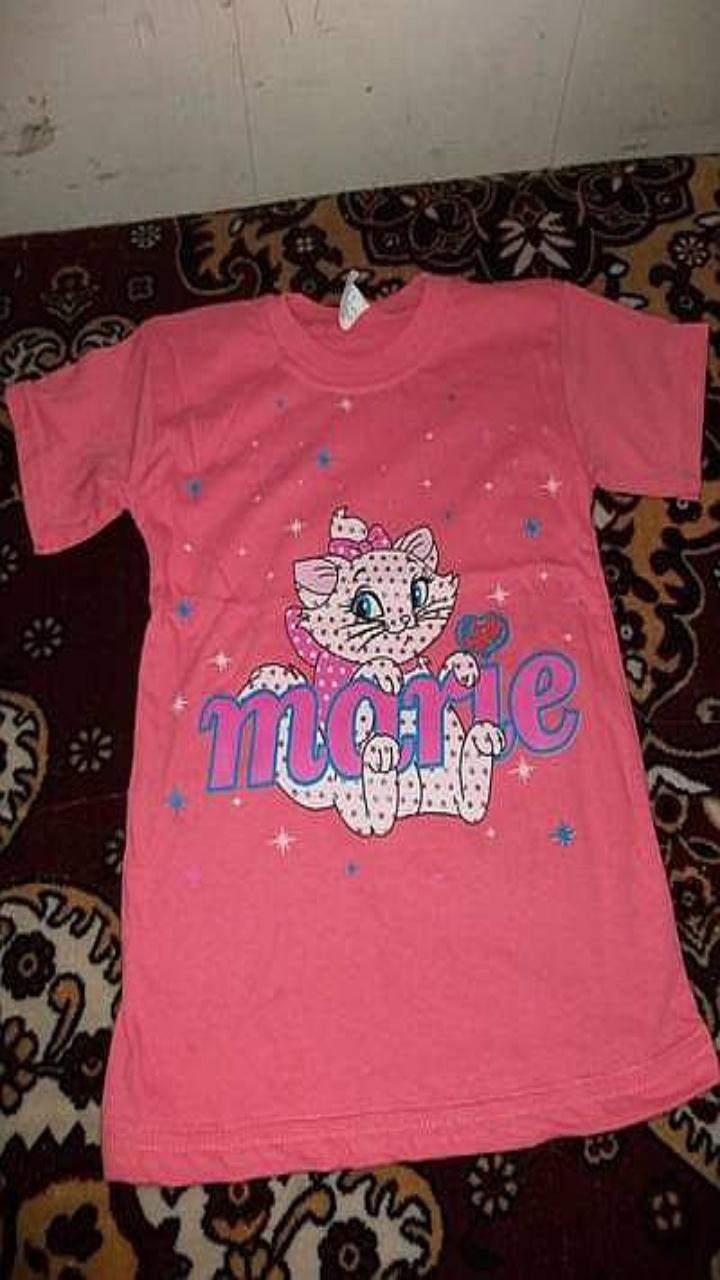T-Shirt: (7, 271, 719, 1183)
